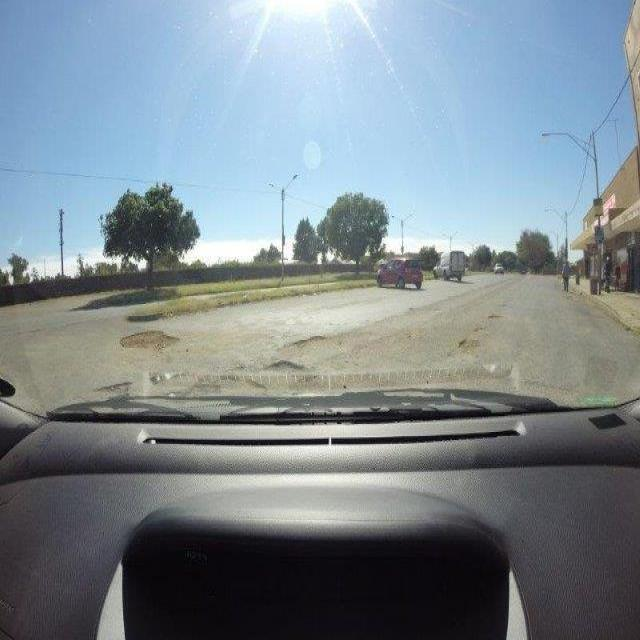lubang: (116, 331, 183, 348), (280, 333, 332, 354), (257, 357, 305, 372), (458, 335, 480, 356), (472, 324, 489, 336), (487, 313, 509, 320)
